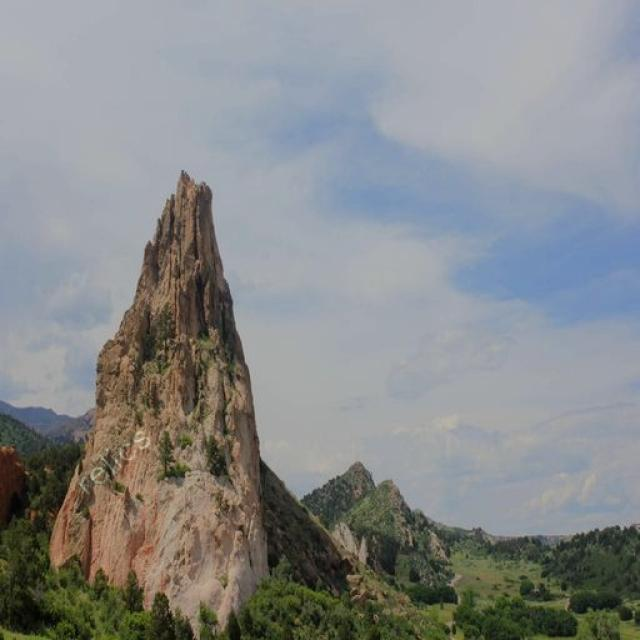watermark: (76, 414, 152, 502)
